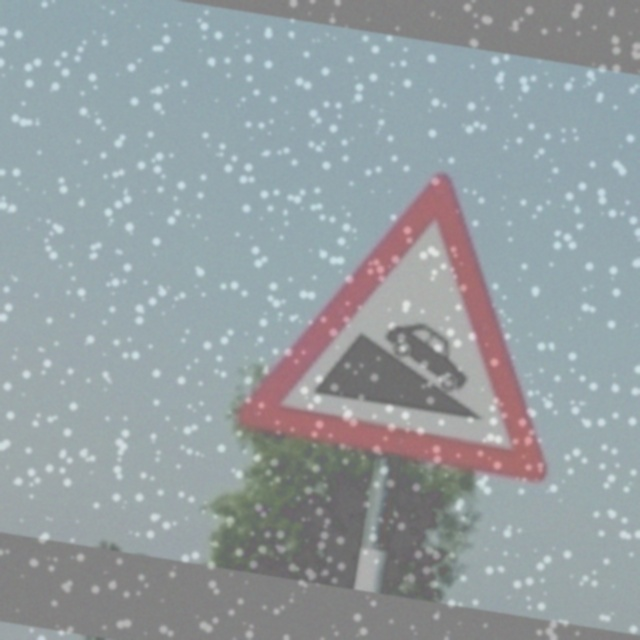Steep_Descent: (230, 144, 604, 489)
